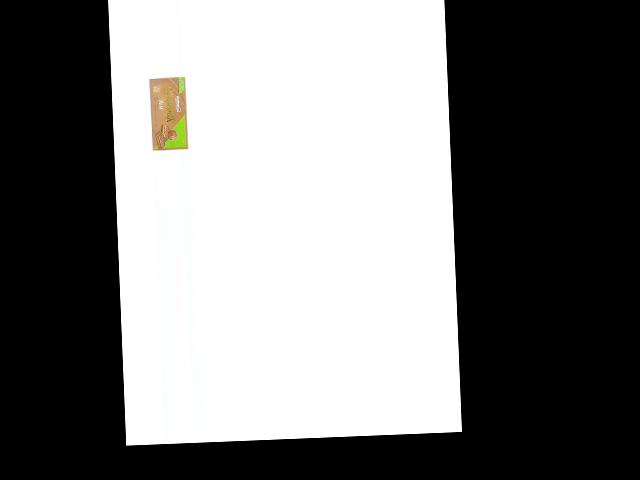chocolate: (145, 73, 189, 152)
